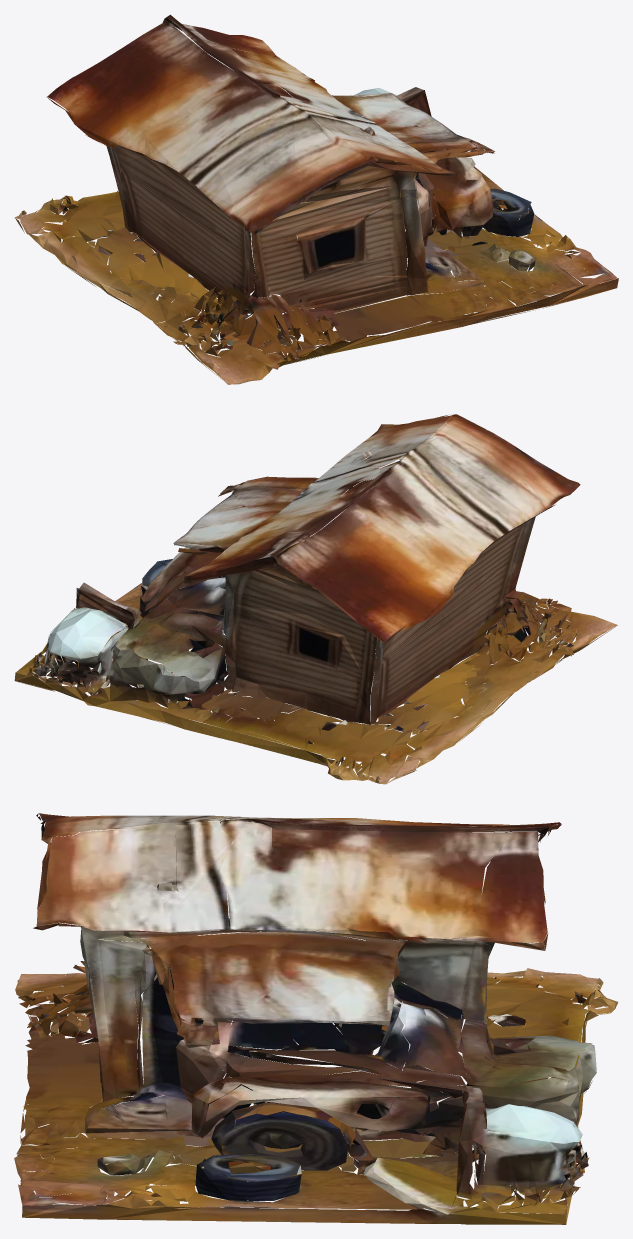
File: junk-pile.glb
3 renders of one model, top to bottom at view 1: azimuth 30°, elevation 25°; view 2: azimuth 150°, elevation 25°; view 3: azimuth 270°, elevation 25°, orthographic. The views are drawn at different scales.
Visible parts, largest first — view 1: tmpevcismr1.ply; view 2: tmpevcismr1.ply; view 3: tmpevcismr1.ply.
Part boxes in pixels (left/top/right/bottom): tmpevcismr1.ply: left=14, top=14, right=618, bottom=384; tmpevcismr1.ply: left=14, top=414, right=617, bottom=784; tmpevcismr1.ply: left=14, top=813, right=618, bottom=1224.
Size of the model in its own units: 4 by 1.8 by 4.
Materials: 1 (1 with a texture image).
